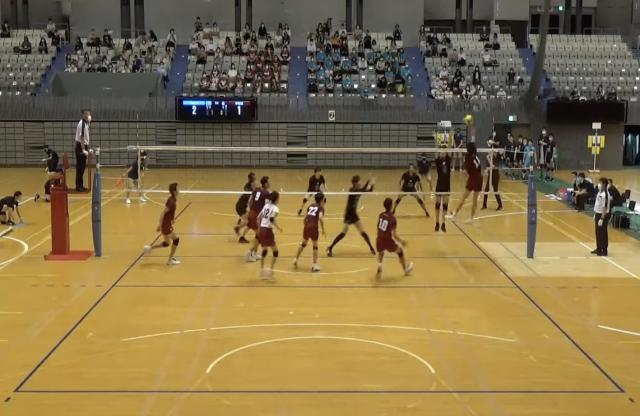spike: (446, 115, 488, 229)
